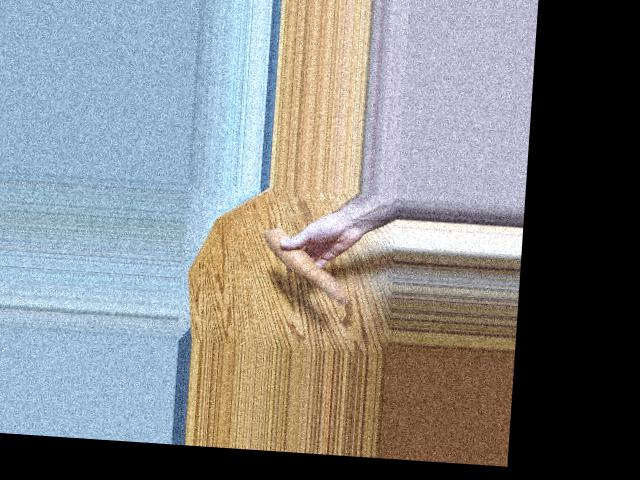sweet_potato: (267, 226, 353, 301)
